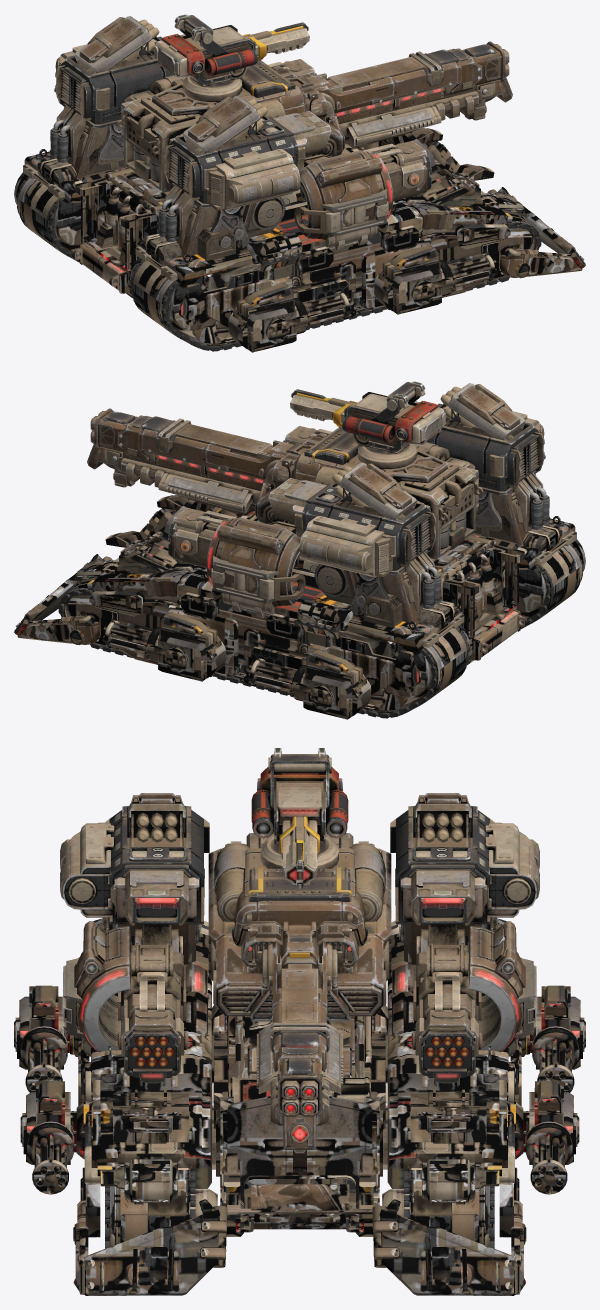
Rendered from PlayerTank.fbx.
3 renders of one model, top to bottom at view 1: azimuth 30°, elevation 25°; view 2: azimuth 150°, elevation 25°; view 3: azimuth 270°, elevation 25°, orthographic. The views are drawn at different scales.
Visible parts, largest first — view 1: DD_phc_13a; view 2: DD_phc_13a; view 3: DD_phc_13a.
Boxes of the visible parts, left/top/right/bottom form: DD_phc_13a: left=14, top=14, right=585, bottom=352; DD_phc_13a: left=14, top=381, right=585, bottom=719; DD_phc_13a: left=14, top=748, right=585, bottom=1295.
Bounding box in the file's own units: 420 × 254 × 377.
1 material, 1 textured.
